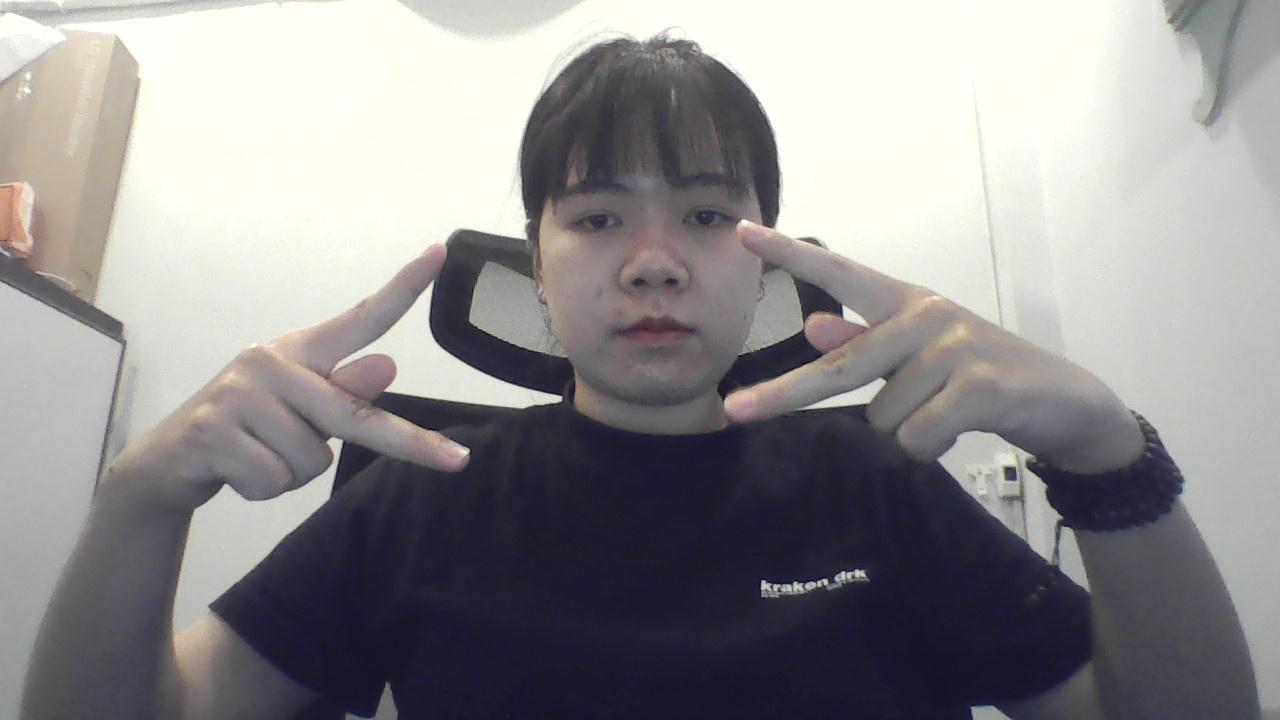P: (139, 236, 496, 516), (724, 212, 1078, 466)
